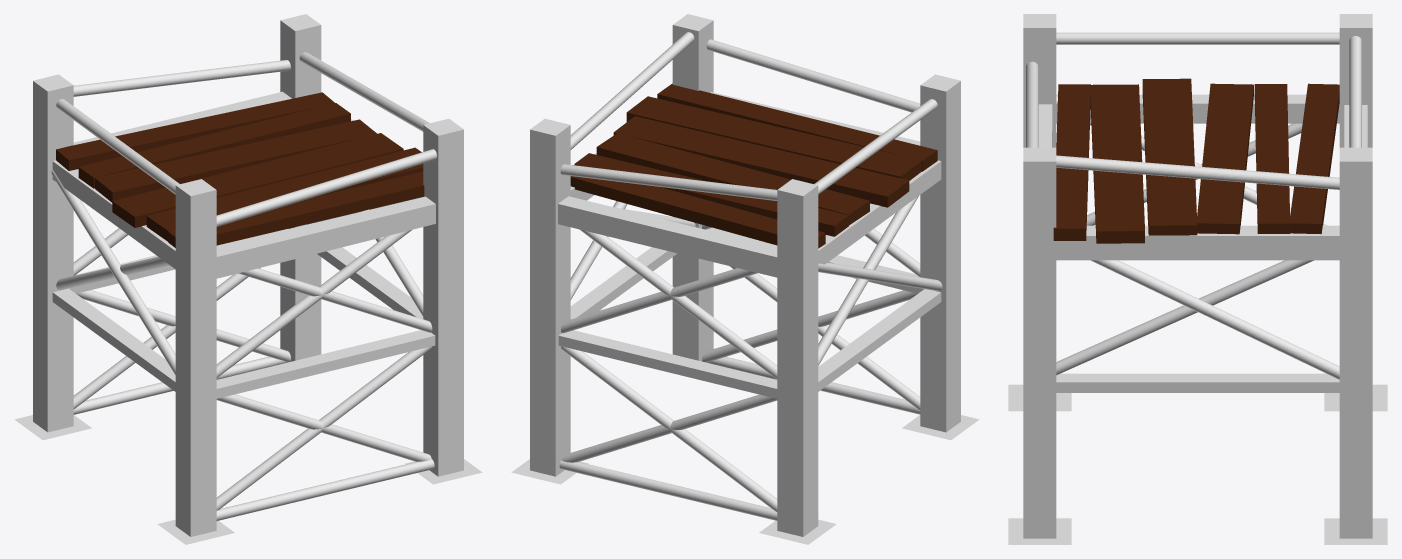
Rendered from Scaff1.fbx.
3 renders of one model, left to right at view 1: azimuth 30°, elevation 25°; view 2: azimuth 150°, elevation 25°; view 3: azimuth 270°, elevation 25°, orthographic. The views are drawn at different scales.
Visible parts, largest first — view 1: Grid, Cube.002, Cube.003, Cube.005, Cube, Cube.001, Cube.004, Cylinder.002, Cylinder.009, Cylinder.001, Cylinder.016, Cylinder.008 (+11 smaller); view 2: Grid, Cube.003, Cube.004, Cube.002, Cube, Cube.005, Cylinder.003, Cube.001, Cylinder.015, Cylinder.004, Cylinder.009, Cylinder.008 (+11 smaller); view 3: Grid, Cube.004, Cube.003, Cube.002, Cube, Cube.005, Cube.001, Cylinder.006, Cylinder.007, Cylinder.013, Cylinder.012, Cylinder.008 (+2 smaller).
Part boxes in pixels (x1,y1,x2,y2): Grid: [14, 14, 482, 544]; Cube.002: [94, 119, 376, 202]; Cube.003: [112, 133, 403, 227]; Cube.005: [168, 171, 424, 247]; Cube: [56, 92, 335, 170]; Cube.001: [78, 103, 350, 188]; Cube.004: [146, 147, 423, 241]; Cylinder.002: [216, 346, 432, 510]; Cylinder.009: [216, 149, 436, 226]; Cylinder.001: [216, 459, 434, 520]; Cylinder.016: [216, 230, 411, 377]; Cylinder.008: [73, 60, 290, 96]; Grid: [511, 14, 979, 544]; Cube.003: [613, 116, 909, 207]; Cube.004: [626, 96, 921, 180]; Cube.002: [596, 133, 869, 225]; Cube: [570, 164, 825, 248]; Cube.005: [657, 83, 937, 171]; Cylinder.003: [561, 346, 777, 511]; Cube.001: [575, 153, 848, 236]; Cylinder.015: [579, 229, 777, 379]; Cylinder.004: [559, 460, 777, 520]; Cylinder.009: [706, 39, 920, 112]; Cylinder.008: [560, 164, 777, 200]; Grid: [1008, 14, 1387, 544]; Cube.004: [1090, 84, 1144, 243]; Cube.003: [1142, 78, 1197, 235]; Cube.002: [1196, 83, 1253, 234]; Cube: [1289, 83, 1339, 234]; Cube.005: [1053, 84, 1090, 240]; Cube.001: [1254, 84, 1290, 233]; Cylinder.006: [1056, 32, 1339, 44]; Cylinder.007: [1056, 155, 1339, 189]; Cylinder.013: [1090, 260, 1339, 379]; Cylinder.012: [1056, 260, 1313, 375]; Cylinder.008: [1349, 36, 1361, 147].
Bounding box in the file's own units: 210 × 230 × 210.
